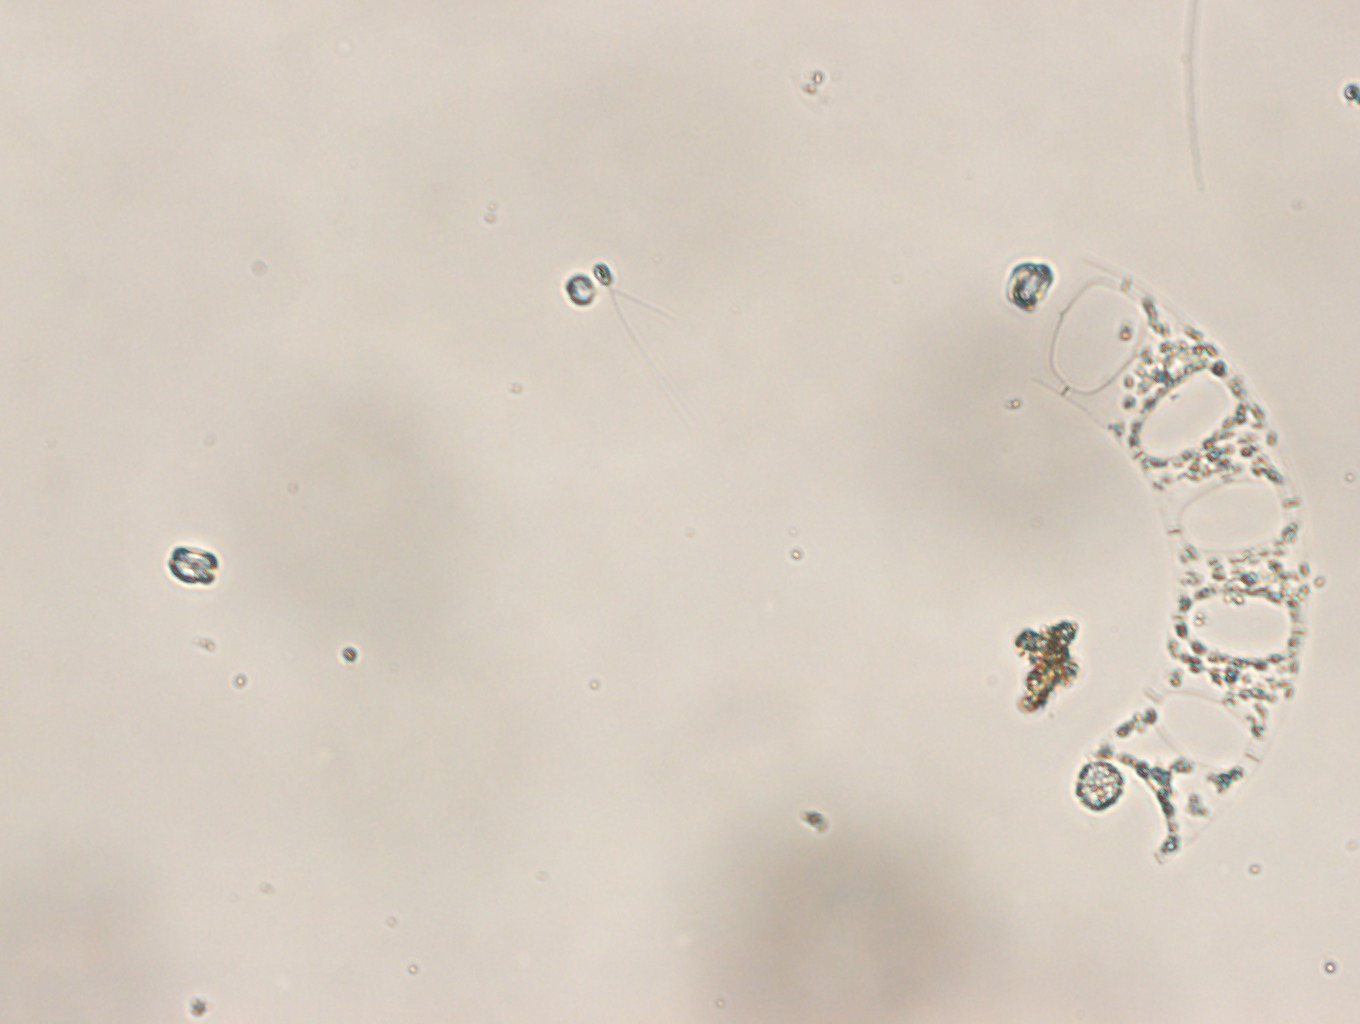chaetoceros: (560, 253, 719, 383)
eucampia: (1031, 253, 1308, 862)
